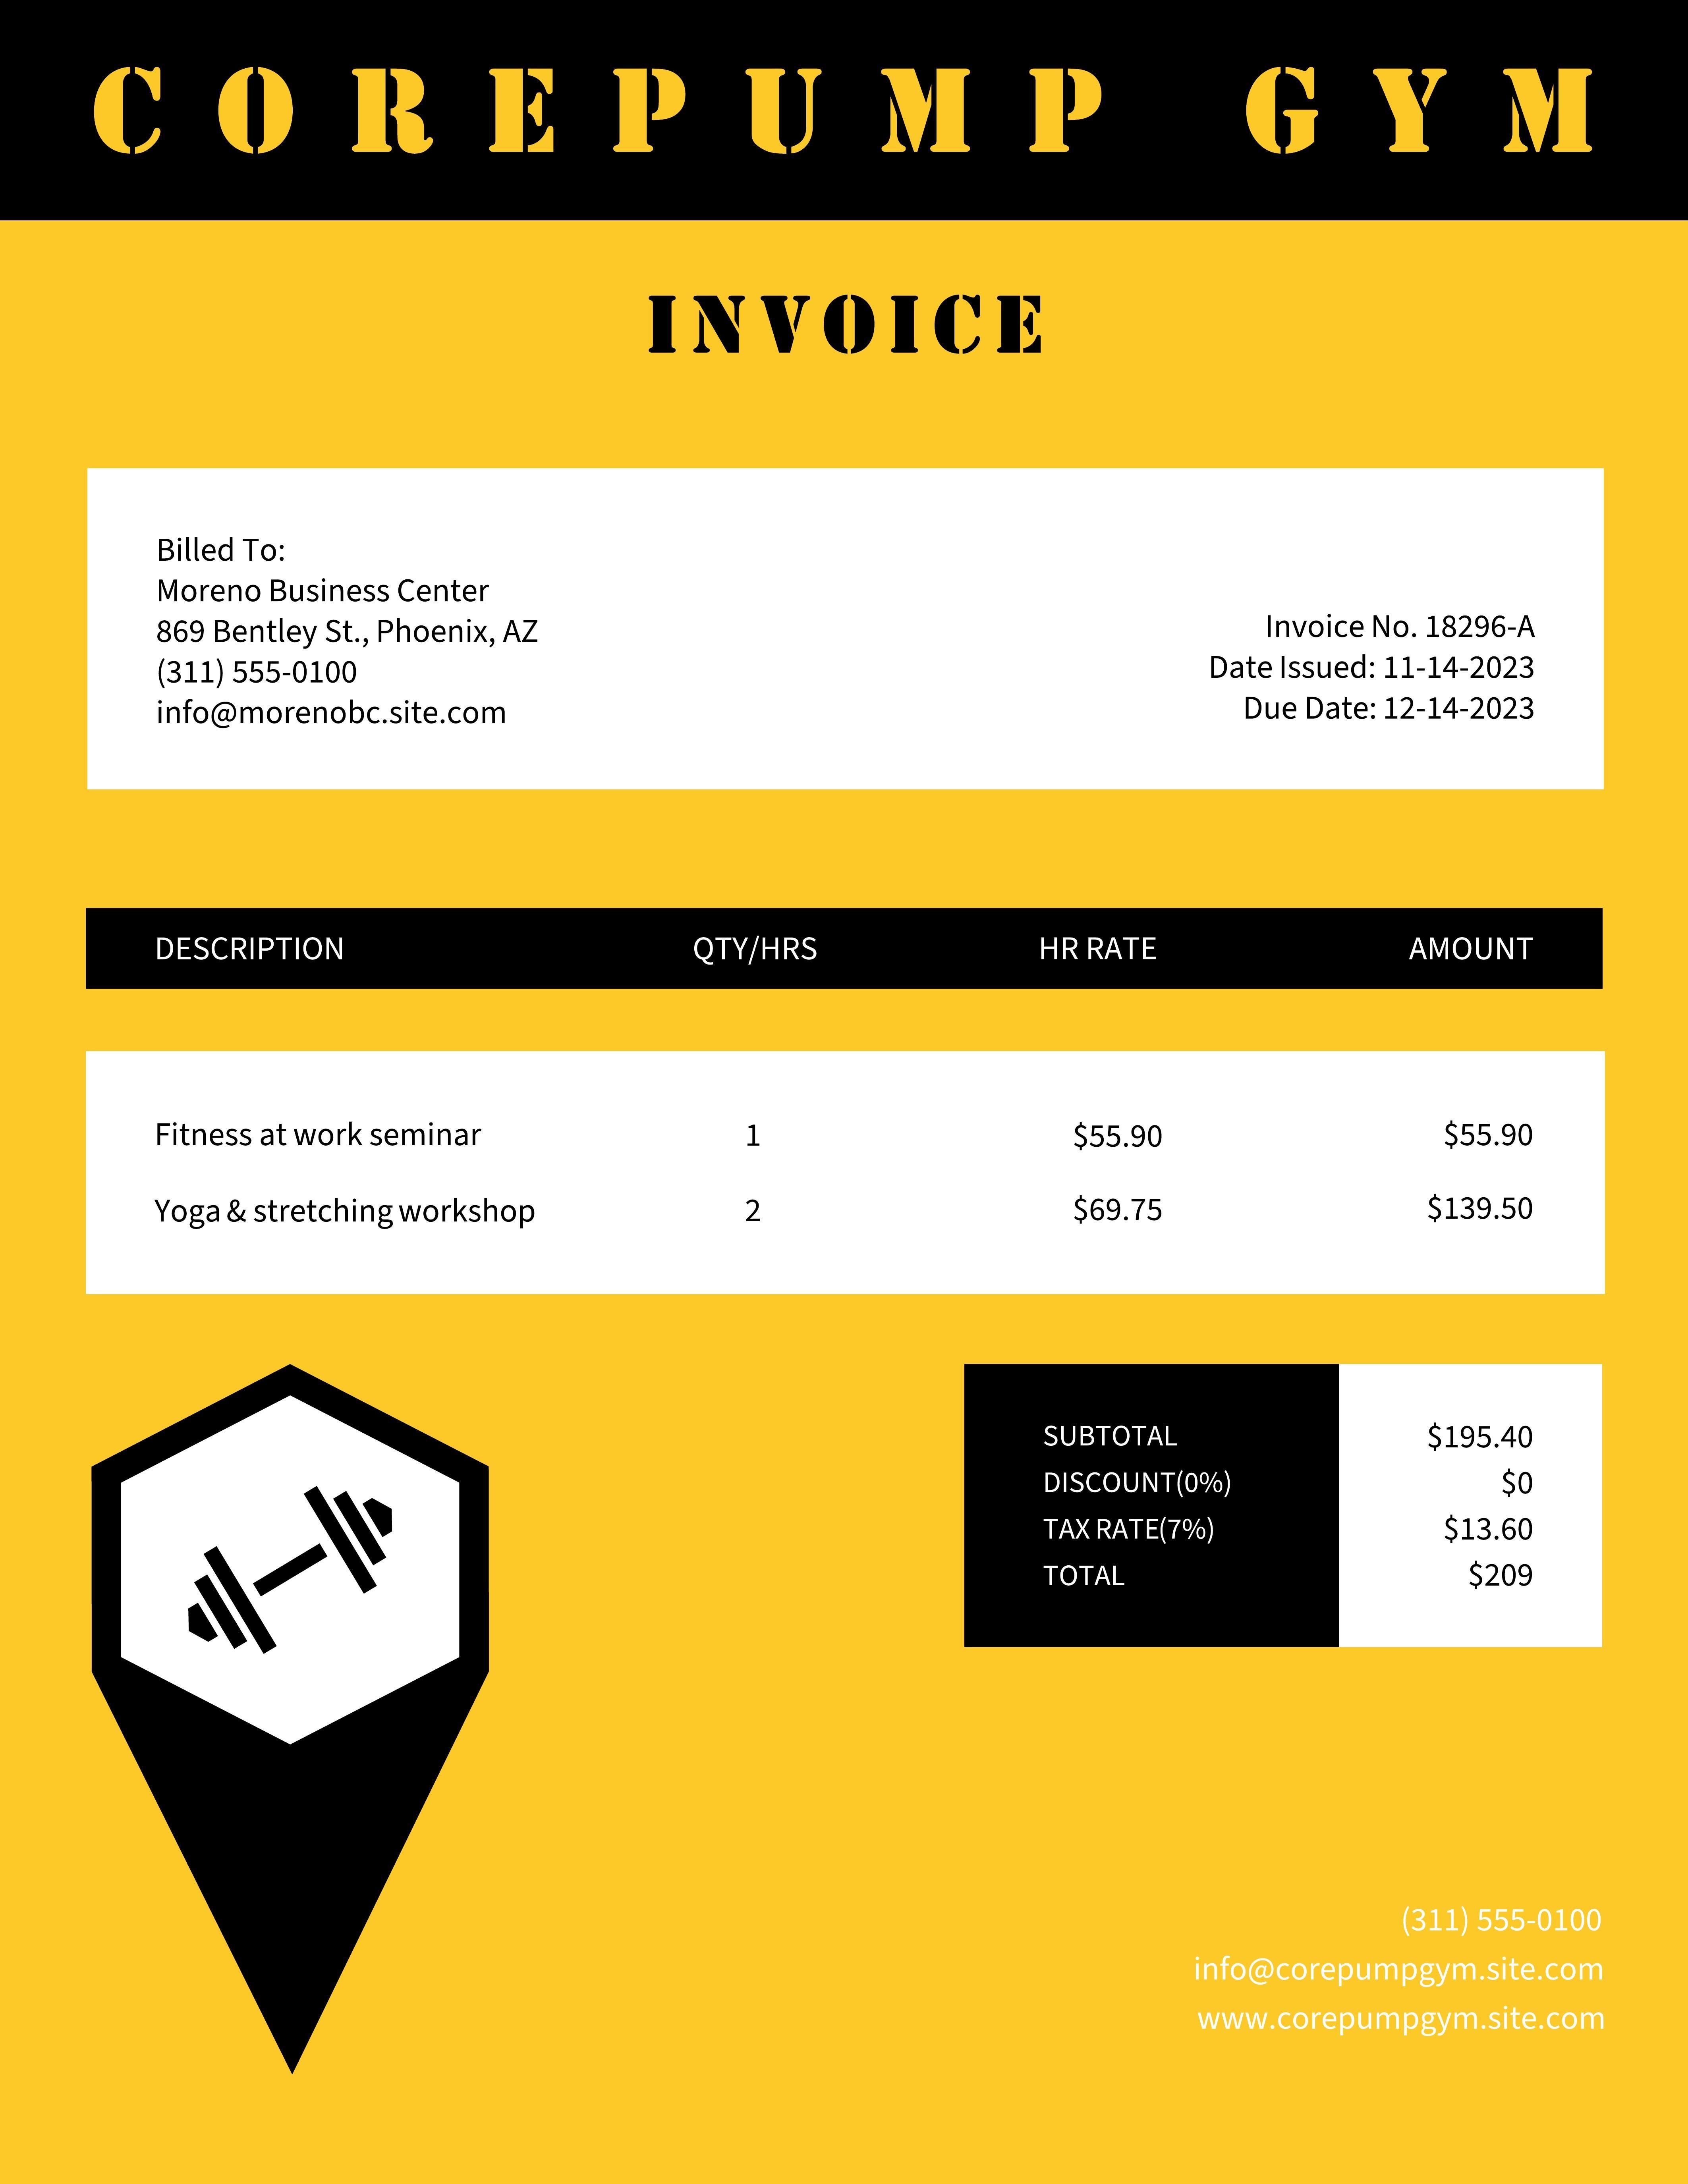ROI: (89, 907, 1594, 1289), (68, 36, 1633, 175), (1013, 1386, 1540, 1611), (131, 517, 574, 747), (1192, 597, 1558, 751)
